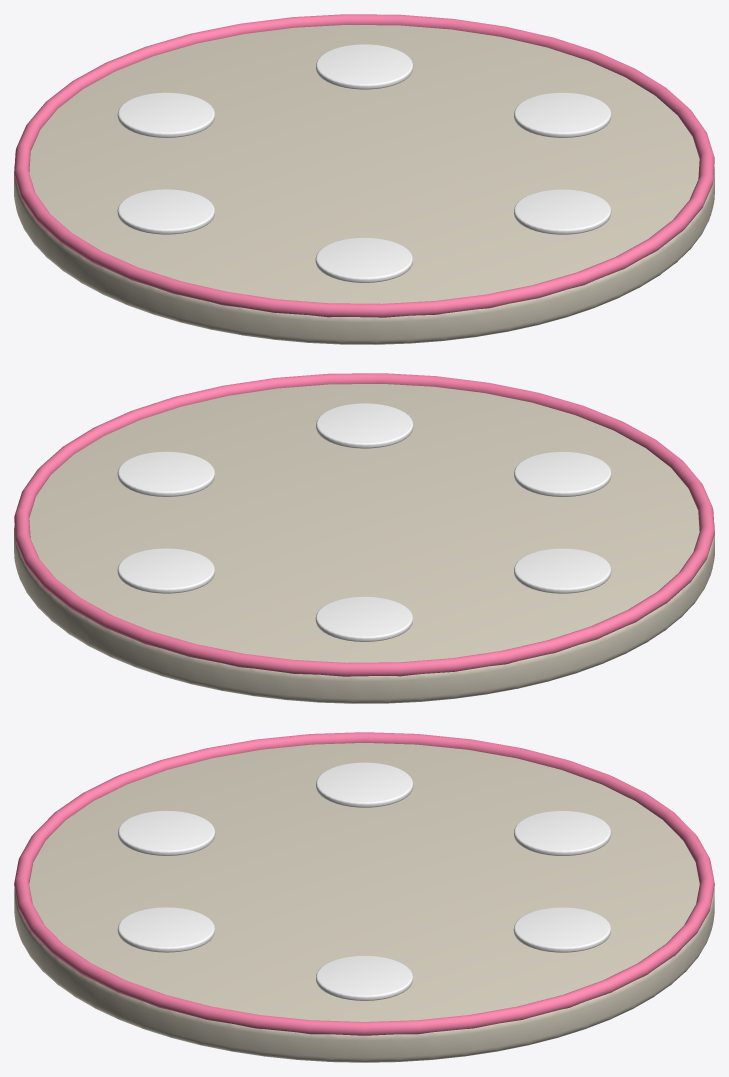
The model's file is Turntable.glb.
3 renders of one model, top to bottom at view 1: azimuth 30°, elevation 25°; view 2: azimuth 150°, elevation 25°; view 3: azimuth 270°, elevation 25°, orthographic.
Parts seen in each view (by area): view 1: Cylinder, Torus, Cylinder.006, Cylinder.004, Cylinder.003, Cylinder.001, Cylinder.002, Cylinder.005; view 2: Cylinder, Torus, Cylinder.004, Cylinder.002, Cylinder.006, Cylinder.001, Cylinder.005, Cylinder.003; view 3: Cylinder, Torus, Cylinder.004, Cylinder.002, Cylinder.006, Cylinder.001, Cylinder.003, Cylinder.005.
Part boxes in pixels (x1=…): Cylinder: x1=14, y1=25, x2=714, y2=344; Torus: x1=14, y1=14, x2=714, y2=317; Cylinder.006: x1=514, y1=189, x2=611, y2=234; Cylinder.004: x1=117, y1=189, x2=214, y2=234; Cylinder.003: x1=117, y1=92, x2=214, y2=137; Cylinder.001: x1=514, y1=92, x2=611, y2=137; Cylinder.002: x1=316, y1=44, x2=413, y2=89; Cylinder.005: x1=315, y1=237, x2=412, y2=282; Cylinder: x1=14, y1=384, x2=714, y2=703; Torus: x1=14, y1=373, x2=714, y2=676; Cylinder.004: x1=514, y1=548, x2=611, y2=593; Cylinder.002: x1=117, y1=548, x2=214, y2=593; Cylinder.006: x1=316, y1=403, x2=413, y2=448; Cylinder.001: x1=117, y1=451, x2=214, y2=496; Cylinder.005: x1=514, y1=451, x2=611, y2=496; Cylinder.003: x1=315, y1=596, x2=412, y2=641; Cylinder: x1=14, y1=743, x2=714, y2=1062; Torus: x1=14, y1=732, x2=714, y2=1035; Cylinder.004: x1=316, y1=762, x2=413, y2=807; Cylinder.002: x1=513, y1=907, x2=610, y2=952; Cylinder.006: x1=117, y1=907, x2=214, y2=952; Cylinder.001: x1=316, y1=955, x2=412, y2=1000; Cylinder.003: x1=514, y1=811, x2=611, y2=855; Cylinder.005: x1=118, y1=810, x2=215, y2=855.
Size of the model in its own units: 4.6 by 0.2887 by 4.6.
